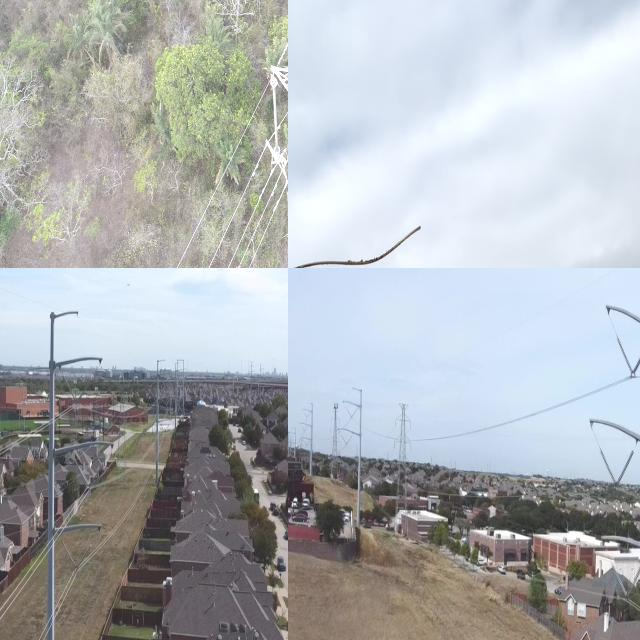杆塔: (390, 392, 412, 512), (326, 393, 344, 463)
正常绝缘子: (269, 78, 283, 158), (612, 447, 636, 493), (614, 334, 636, 379), (598, 448, 619, 493), (73, 372, 97, 409), (609, 559, 630, 601), (72, 540, 95, 576), (59, 536, 79, 574), (85, 459, 106, 493), (72, 453, 91, 490), (624, 562, 640, 604), (60, 373, 79, 407), (629, 352, 640, 380)
